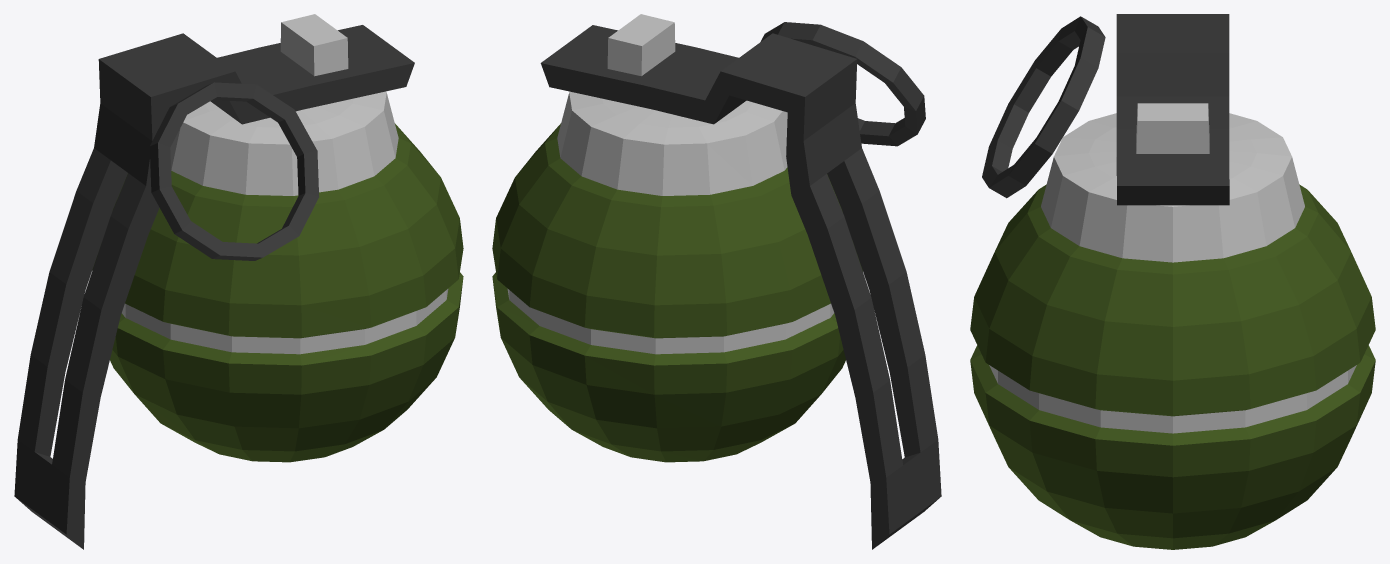
File: grenade.glb
The picture shows the model from 3 angles, left to right: view 1: azimuth 30°, elevation 25°; view 2: azimuth 150°, elevation 25°; view 3: azimuth 270°, elevation 25°; orthographic projection. The views are drawn at different scales.
Parts seen in each view (by area): view 1: Grenade; view 2: Grenade; view 3: Grenade.
Boxes of the visible parts, x1,y1,x2,y2 form: Grenade: (14,14,463,549); Grenade: (492,14,941,549); Grenade: (970,14,1375,549).
Bounding box in the file's own units: 0.5637 × 0.6051 × 0.459.
